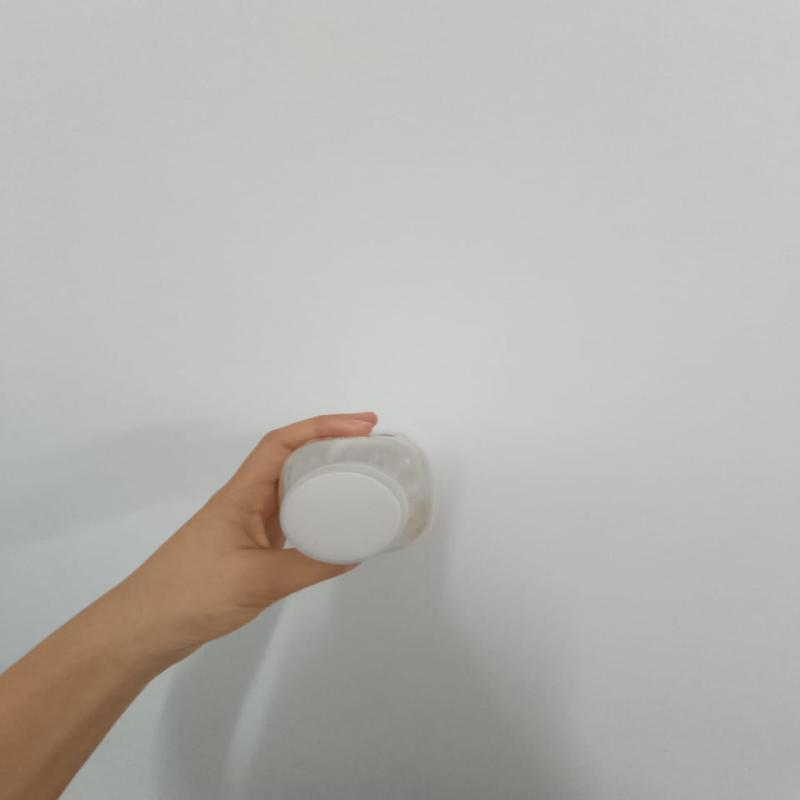botella: (272, 426, 449, 569)
